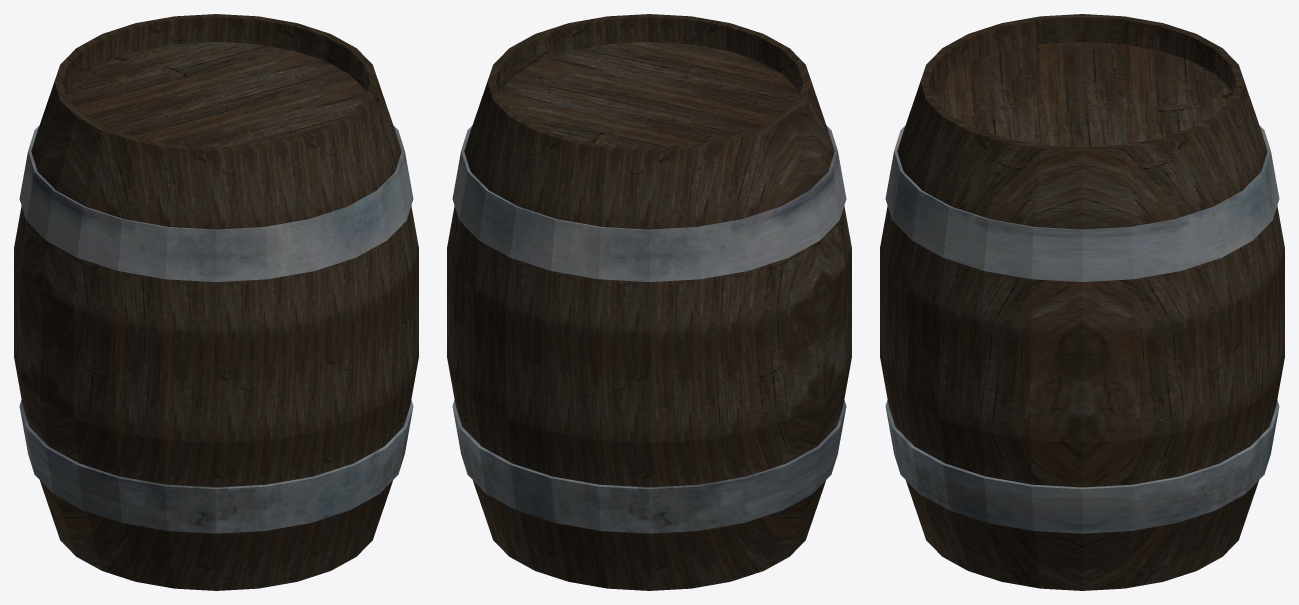
The model's file is WoodenBarrel.fbx.
3 renders of one model, left to right at view 1: azimuth 30°, elevation 25°; view 2: azimuth 150°, elevation 25°; view 3: azimuth 270°, elevation 25°, orthographic.
Visible parts, largest first — view 1: default; view 2: default; view 3: default.
Part boxes in pixels (box(x1,y1,x2,y2)): default: box(14, 14, 418, 590); default: box(447, 14, 851, 590); default: box(880, 14, 1284, 590).
Bounding box in the file's own units: 37.52 × 45.03 × 37.52.
